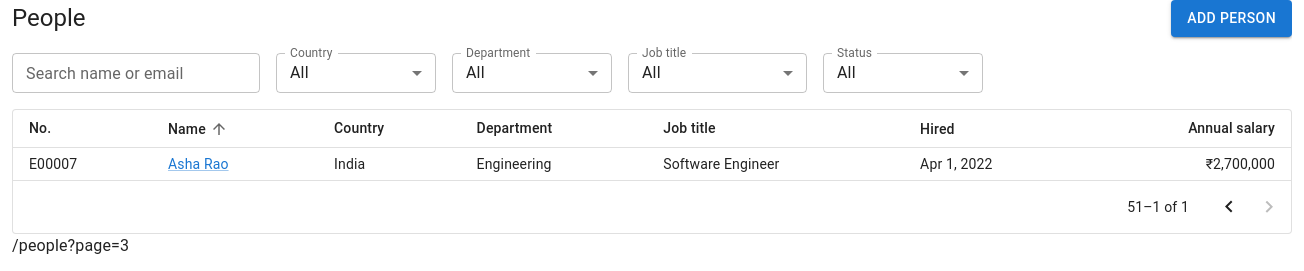
Test: search goes into the address and the request
The image size is (1304, 271).
In the field labelled "Search name or email": point(136, 72) [12,52,260,92], type "asha"
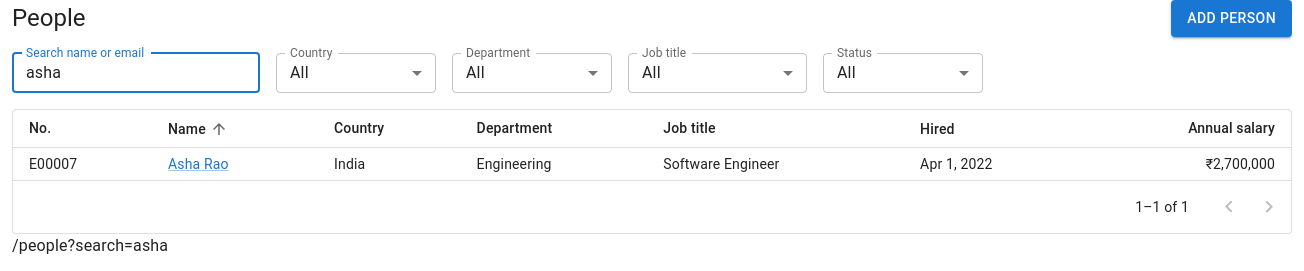
Expected: the text with test id "address" reads "/people?search=asha", [12,236,168,255]
